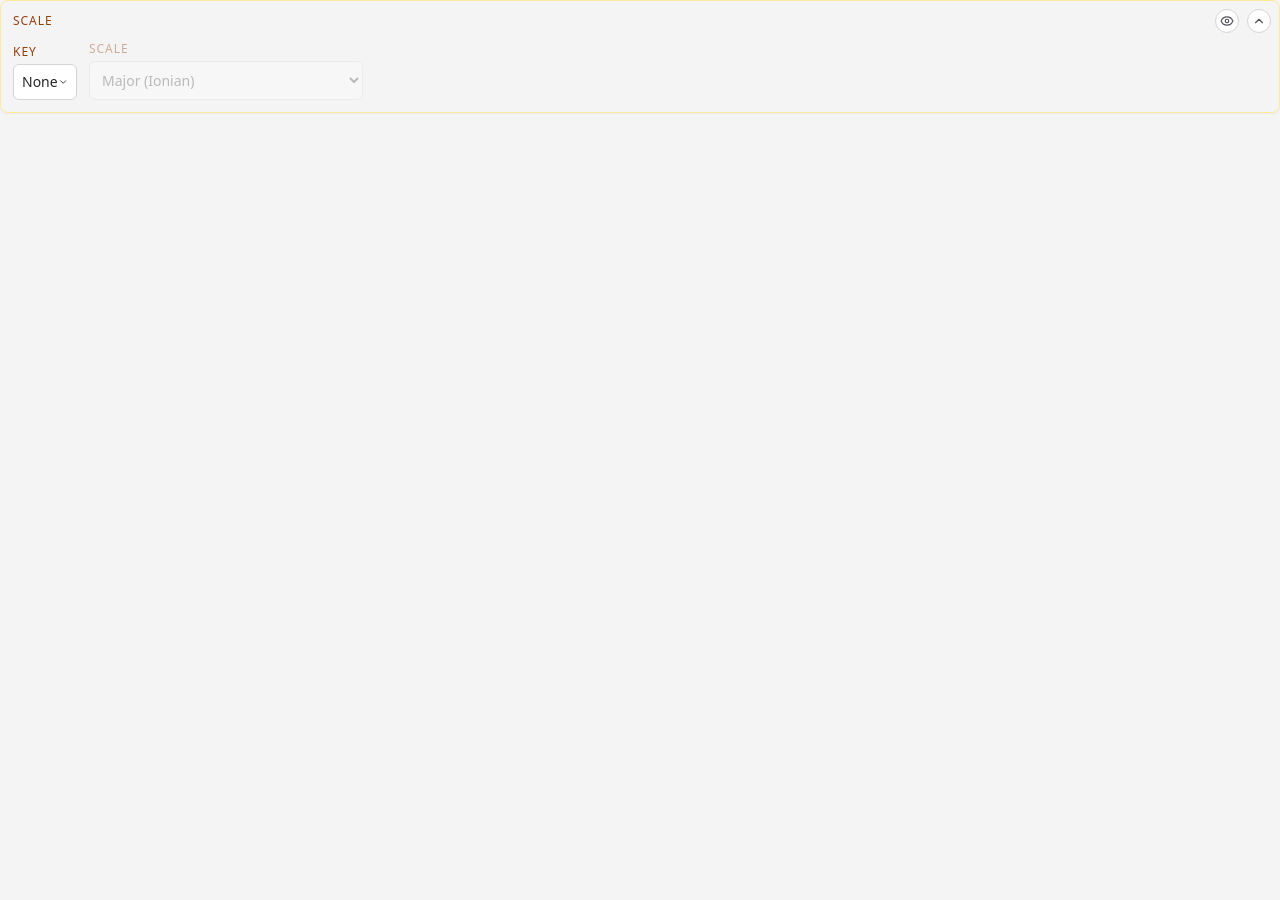
Test: ChordBrowser scale selector › renders None as the empty key selection
Click the button titled "Select key": {"x": 45, "y": 82} [13,64,77,100]
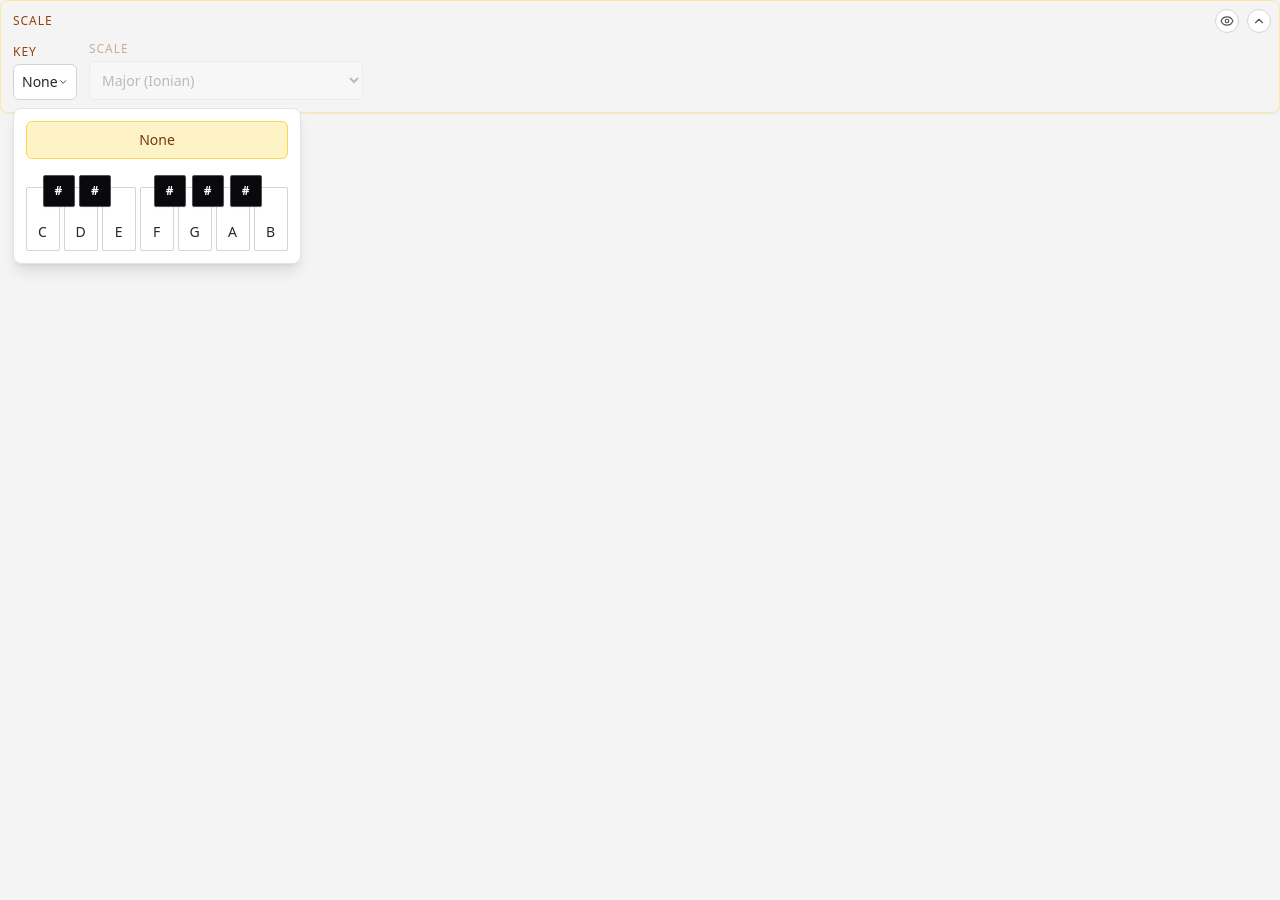
Expected: the 2nd button "None" is shown, [26,121,288,159]
